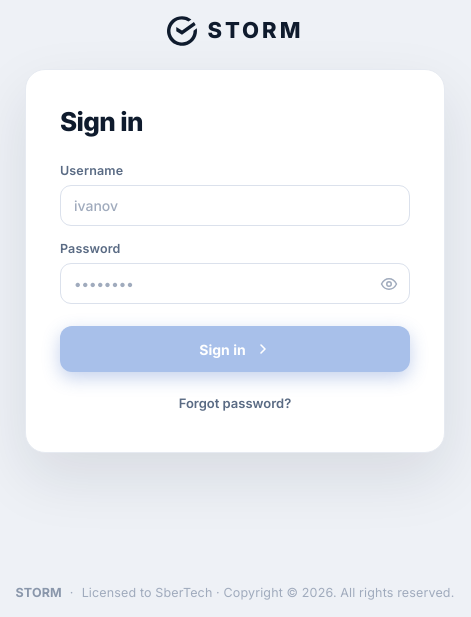
StormLogin › enables submit only when both fields are filled
expect the button "Sign in" is disabled: met, box [60,326,410,372]
In the field labelled "Username": (235, 206) [60,185,410,226], type "m.antonov"
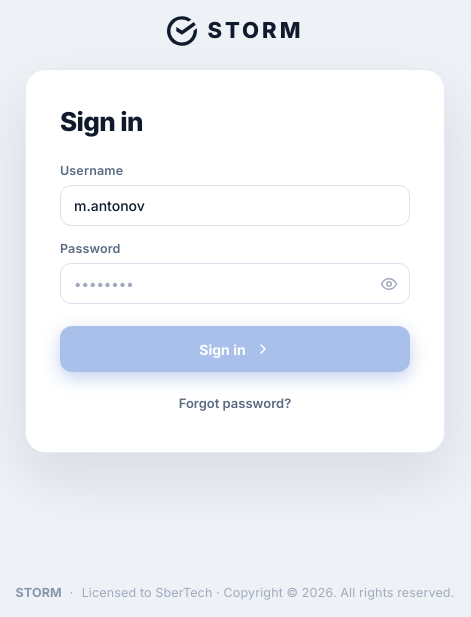
In the password field labelled "Password": (235, 284) [60,263,410,304], type "secret"
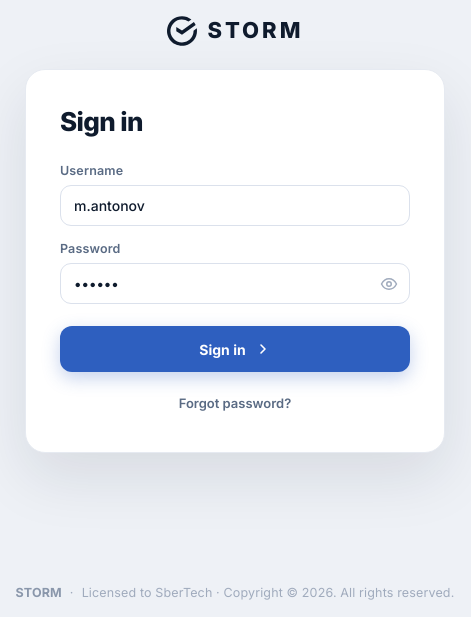
expect the button "Sign in" is enabled: met, box [60,326,410,372]
